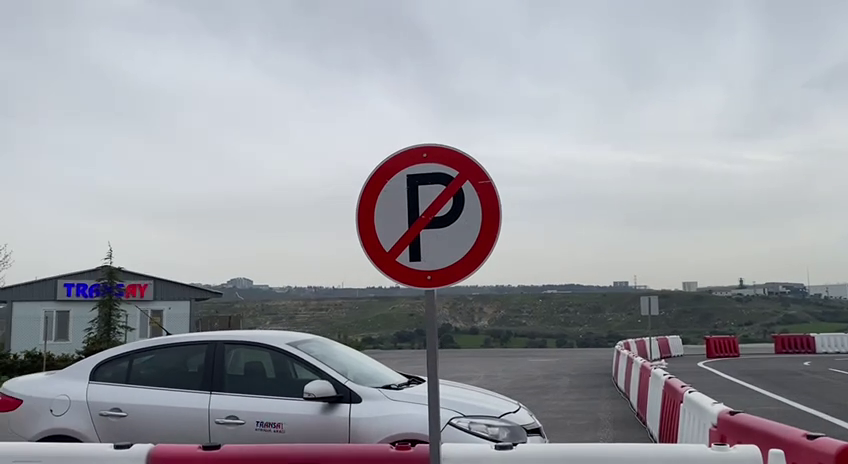noparking: (348, 138, 507, 294)
